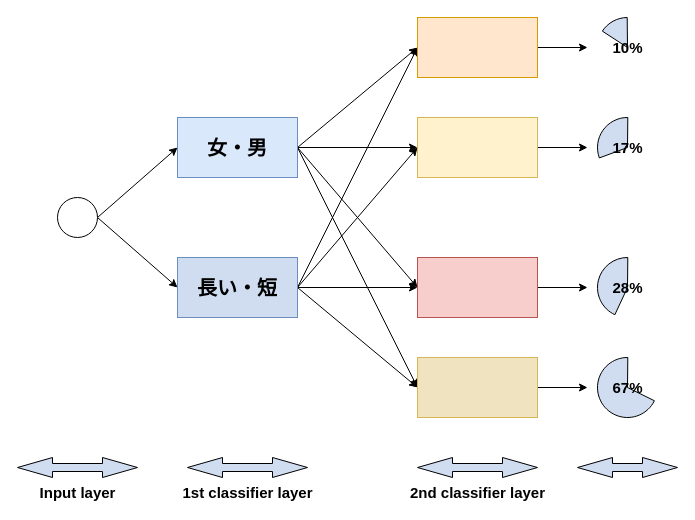
Some shapes in this 695 by 520 pixel diagram are drawn without their labels. Here are the shapes that lost their labels. From the top down, the centre of each, then its label:
At (x=477, y=47): "女長い".
At (x=477, y=147): "女短".
At (x=477, y=287): "男長い".
At (x=477, y=387): "男短".
At (x=627, y=467): "Probability".
